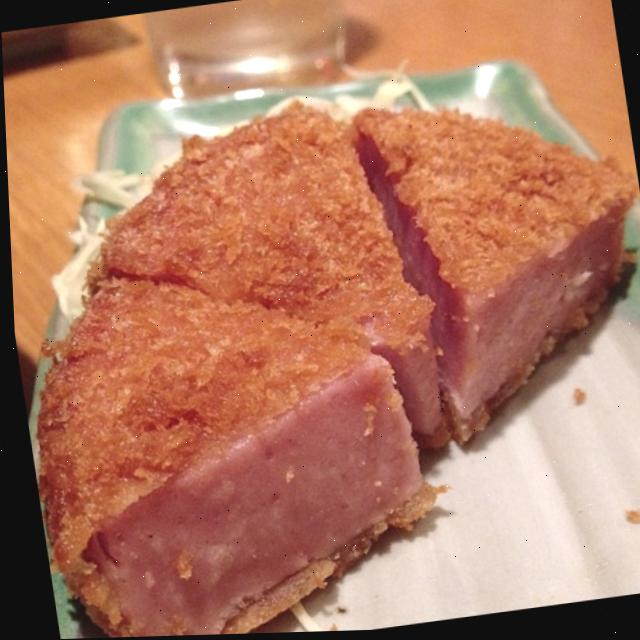炸货点心: (3, 66, 640, 640)
